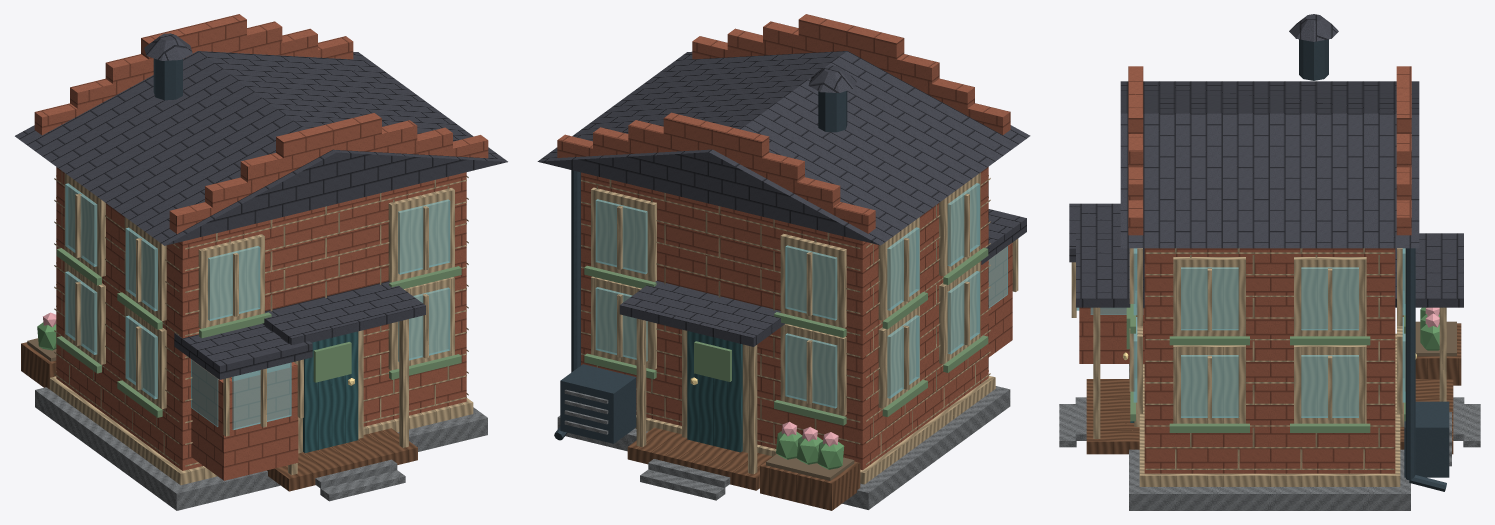
The model's file is house_townhouse_lv2_bay.glb.
3 renders of one model, left to right at view 1: azimuth 30°, elevation 25°; view 2: azimuth 150°, elevation 25°; view 3: azimuth 270°, elevation 25°, orthographic.
Visible parts, largest first — view 1: gable_roof, walls, bay_base, foundation, front_porch_canopy, front_window_frame.003, front_window_frame.002, front_door, bay_cap, front_deck, floor_trim, front_window_frame.001 (+33 smaller); view 2: gable_roof, walls, back_porch_canopy, foundation, back_window_frame.002, back_door, back_window_frame, back_window_frame.003, back_ac_unit, back_deck, back_window_frame.001, back_garden_bed (+41 smaller); view 3: gable_roof, walls, foundation, right_window_frame.002, right_window_frame.003, right_window_frame, right_window_frame.001, floor_trim, front_porch_canopy, back_porch_canopy, right_window_glass.002, right_window_glass.003 (+37 smaller).
Part boxes in pixels (left/top/right/bottom): gable_roof: left=15, top=51, right=507, bottom=245; walls: left=56, top=167, right=466, bottom=470; bay_base: left=191, top=360, right=298, bottom=480; foundation: left=35, top=387, right=487, bottom=510; front_porch_canopy: left=262, top=281, right=425, bottom=344; front_window_frame.003: left=388, top=188, right=454, bottom=282; front_window_frame.002: left=198, top=234, right=264, bottom=328; front_door: left=303, top=331, right=358, bottom=452; bay_cap: left=174, top=323, right=312, bottom=379; front_deck: left=267, top=428, right=417, bottom=491; floor_trim: left=49, top=376, right=473, bottom=485; front_window_frame.001: left=388, top=277, right=454, bottom=370; gable_roof: left=537, top=51, right=1030, bottom=245; walls: left=581, top=167, right=988, bottom=470; back_porch_canopy: left=619, top=281, right=785, bottom=346; foundation: left=557, top=386, right=1010, bottom=509; back_window_frame.002: left=780, top=233, right=846, bottom=328; back_door: left=687, top=331, right=742, bottom=452; back_window_frame: left=780, top=324, right=846, bottom=416; back_window_frame.003: left=591, top=187, right=656, bottom=281; back_ac_unit: left=560, top=364, right=636, bottom=443; back_deck: left=627, top=427, right=772, bottom=490; back_window_frame.001: left=591, top=276, right=656, bottom=369; back_garden_bed: left=760, top=454, right=860, bottom=510; gable_roof: left=1120, top=81, right=1419, bottom=248; walls: left=1144, top=248, right=1395, bottom=473; foundation: left=1129, top=364, right=1410, bottom=510; right_window_frame.002: left=1173, top=257, right=1245, bottom=336; right_window_frame.003: left=1294, top=257, right=1366, bottom=336; right_window_frame: left=1173, top=345, right=1245, bottom=423; right_window_frame.001: left=1294, top=345, right=1366, bottom=423; floor_trim: left=1139, top=333, right=1400, bottom=486; front_porch_canopy: left=1076, top=233, right=1144, bottom=307; back_porch_canopy: left=1395, top=233, right=1463, bottom=307; right_window_glass.002: left=1181, top=267, right=1238, bottom=330; right_window_glass.003: left=1301, top=267, right=1358, bottom=330.
Size of the model in its own units: 3.15 by 3.37 by 3.36.
Materials: 13 (7 with a texture image).
